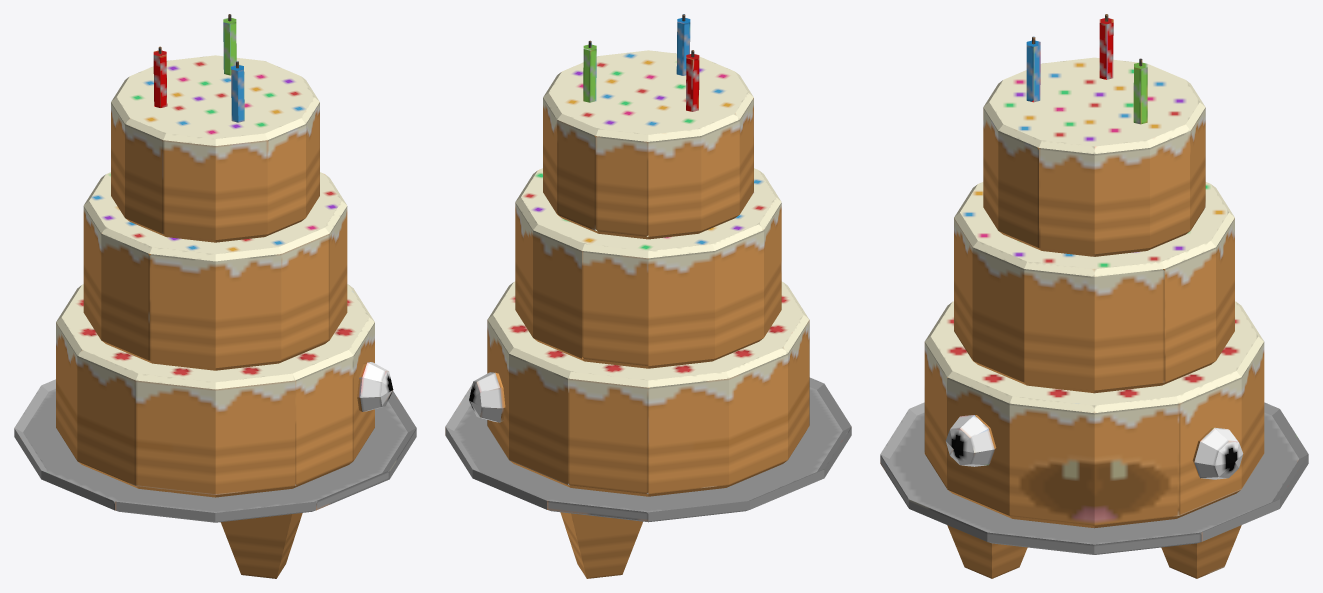
File: BirthdayBoy_enemy.fbx
3 renders of one model, left to right at view 1: azimuth 30°, elevation 25°; view 2: azimuth 150°, elevation 25°; view 3: azimuth 270°, elevation 25°, orthographic. The views are drawn at different scales.
Parts seen in each view (by area): view 1: CakeBottom, CakeMiddle, CakeTop, CakePlate, CakeLegRight, CakeRightEye.001; view 2: CakeBottom, CakeMiddle, CakeTop, CakePlate, CakeLegLeft, CakeLeftEye; view 3: CakeBottom, CakeMiddle, CakeTop, CakePlate, CakeLegRight, CakeLegLeft, CakeRightEye.001, CakeLeftEye.
Boxes of the visible parts, left/top/right/bottom form: CakeBottom: left=56, top=284, right=374, bottom=497; CakeMiddle: left=83, top=172, right=347, bottom=370; CakeTop: left=111, top=14, right=319, bottom=242; CakePlate: left=14, top=379, right=416, bottom=522; CakeLegRight: left=220, top=513, right=302, bottom=578; CakeRightEye.001: left=357, top=362, right=393, bottom=411; CakeBottom: left=487, top=281, right=809, bottom=496; CakeMiddle: left=515, top=168, right=781, bottom=368; CakeTop: left=543, top=14, right=753, bottom=239; CakePlate: left=445, top=377, right=851, bottom=522; CakeLegLeft: left=560, top=512, right=642, bottom=578; CakeLeftEye: left=469, top=372, right=505, bottom=422; CakeBottom: left=924, top=301, right=1264, bottom=528; CakeMiddle: left=954, top=182, right=1234, bottom=393; CakeTop: left=983, top=14, right=1205, bottom=256; CakePlate: left=880, top=402, right=1308, bottom=554; CakeLegRight: left=947, top=525, right=1027, bottom=578; CakeLegLeft: left=1161, top=525, right=1241, bottom=578; CakeRightEye.001: left=945, top=415, right=996, bottom=466; CakeLeftEye: left=1192, top=427, right=1243, bottom=479.
Bounding box in the file's own units: 536 × 728 × 536.
